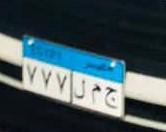7: (55, 73, 70, 95), (39, 70, 53, 90), (24, 65, 38, 85)
jeem: (104, 87, 120, 111)
laam: (75, 79, 87, 102)
meem: (87, 83, 102, 106)
